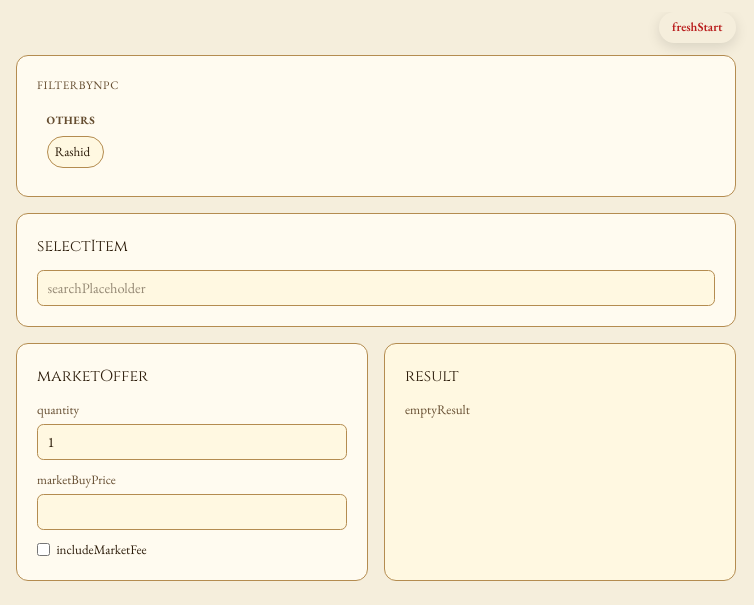
Test: TradeCalculator › toggles standalone NPC filter
Click the button "Rashid" at (75, 152), box [47,136,104,168]
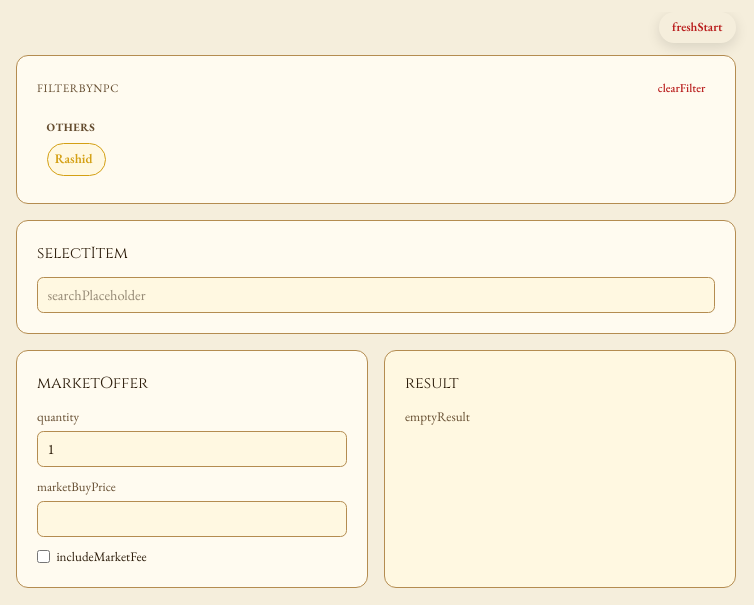
Now the button "clearFilter" is shown, box [648,76,715,100]
Click the button "Rashid" at (76, 159), box [47,143,106,176]
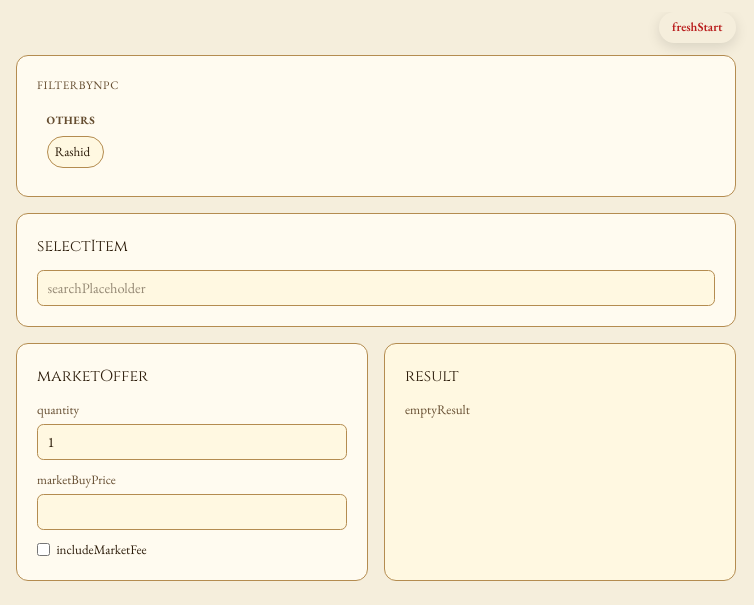
Now the button "clearFilter" is gone
